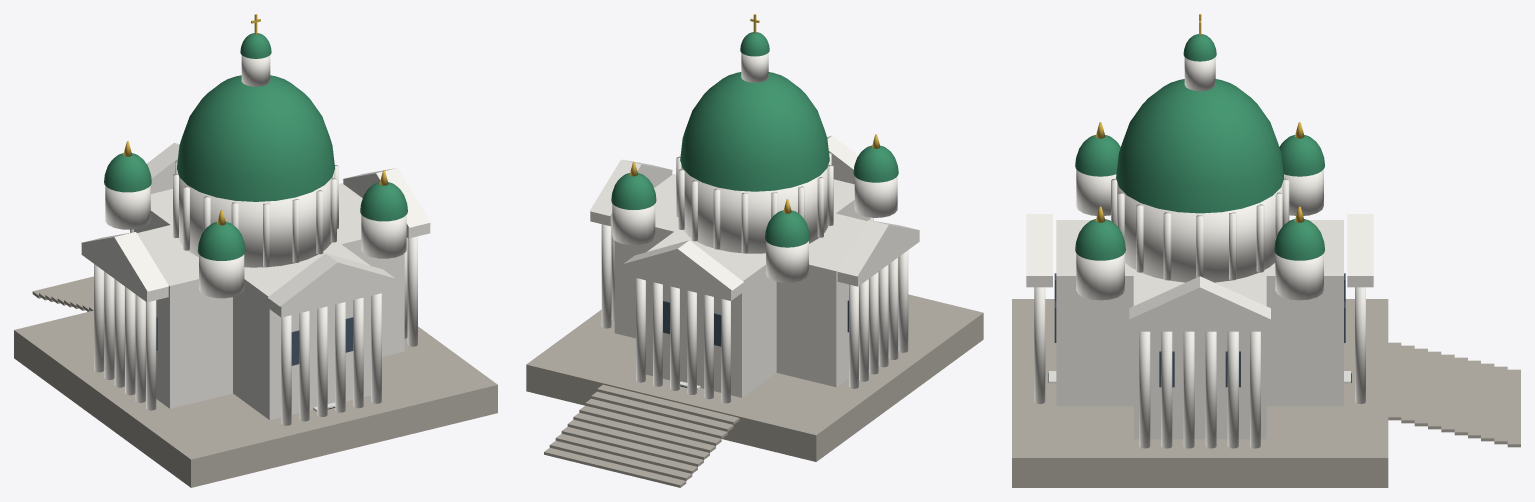
File: props.glb
The picture shows the model from 3 angles, left to right: view 1: azimuth 30°, elevation 25°; view 2: azimuth 150°, elevation 25°; view 3: azimuth 270°, elevation 25°; orthographic projection. The views are drawn at different scales.
Parts seen in each view (by area): view 1: cathedral_mesh; view 2: cathedral_mesh; view 3: cathedral_mesh.
Part boxes in pixels (x1,y1,x2,y2): cathedral_mesh: [14, 14, 497, 487]; cathedral_mesh: [526, 14, 983, 487]; cathedral_mesh: [1012, 14, 1520, 487].
Bounding box in the file's own units: 34 × 39.45 × 46.
